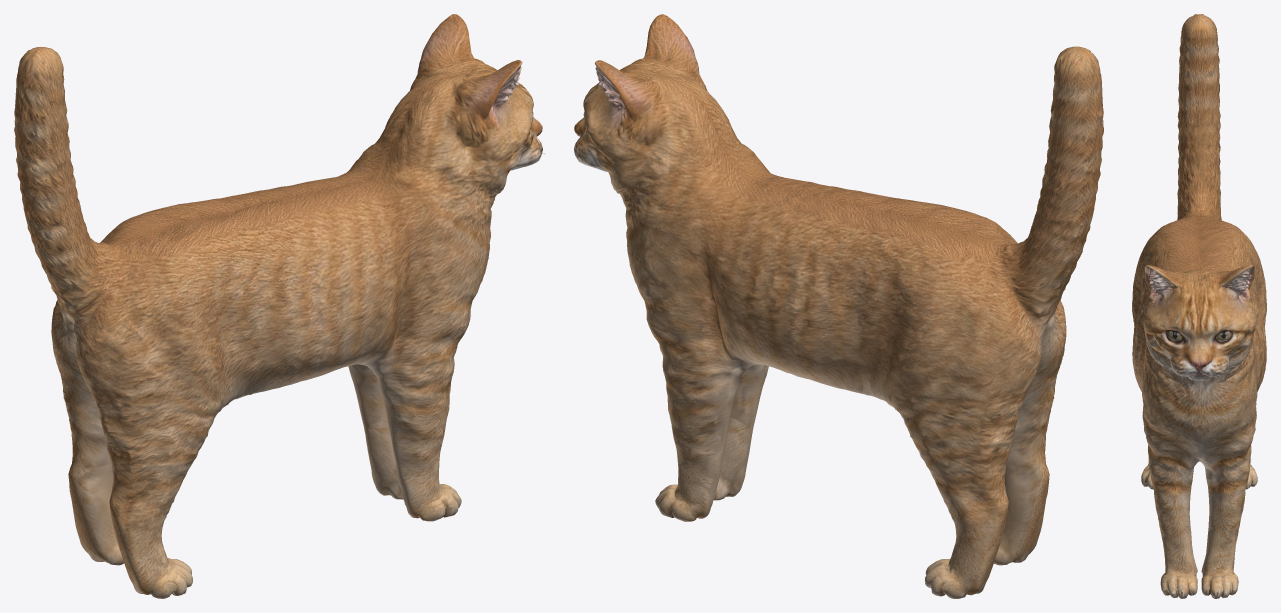
File: GOCCHAN.glb
3 renders of one model, left to right at view 1: azimuth 30°, elevation 25°; view 2: azimuth 150°, elevation 25°; view 3: azimuth 270°, elevation 25°, orthographic. The views are drawn at different scales.
Visible parts, largest first — view 1: tripo_node_812e74b2-16e4-4a12-8137-df3b1c4703ea; view 2: tripo_node_812e74b2-16e4-4a12-8137-df3b1c4703ea; view 3: tripo_node_812e74b2-16e4-4a12-8137-df3b1c4703ea.
Part boxes in pixels (x1=…): tripo_node_812e74b2-16e4-4a12-8137-df3b1c4703ea: x1=14, y1=14, x2=545, y2=598; tripo_node_812e74b2-16e4-4a12-8137-df3b1c4703ea: x1=574, y1=14, x2=1103, y2=598; tripo_node_812e74b2-16e4-4a12-8137-df3b1c4703ea: x1=1132, y1=14, x2=1266, y2=598.
Size of the model in its own units: 0.9985 by 0.9997 by 0.283.
Materials: 1 (1 with a texture image).
